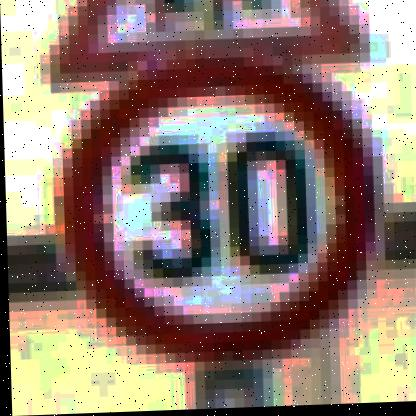Speed Limit -30-: (50, 50, 386, 372)
